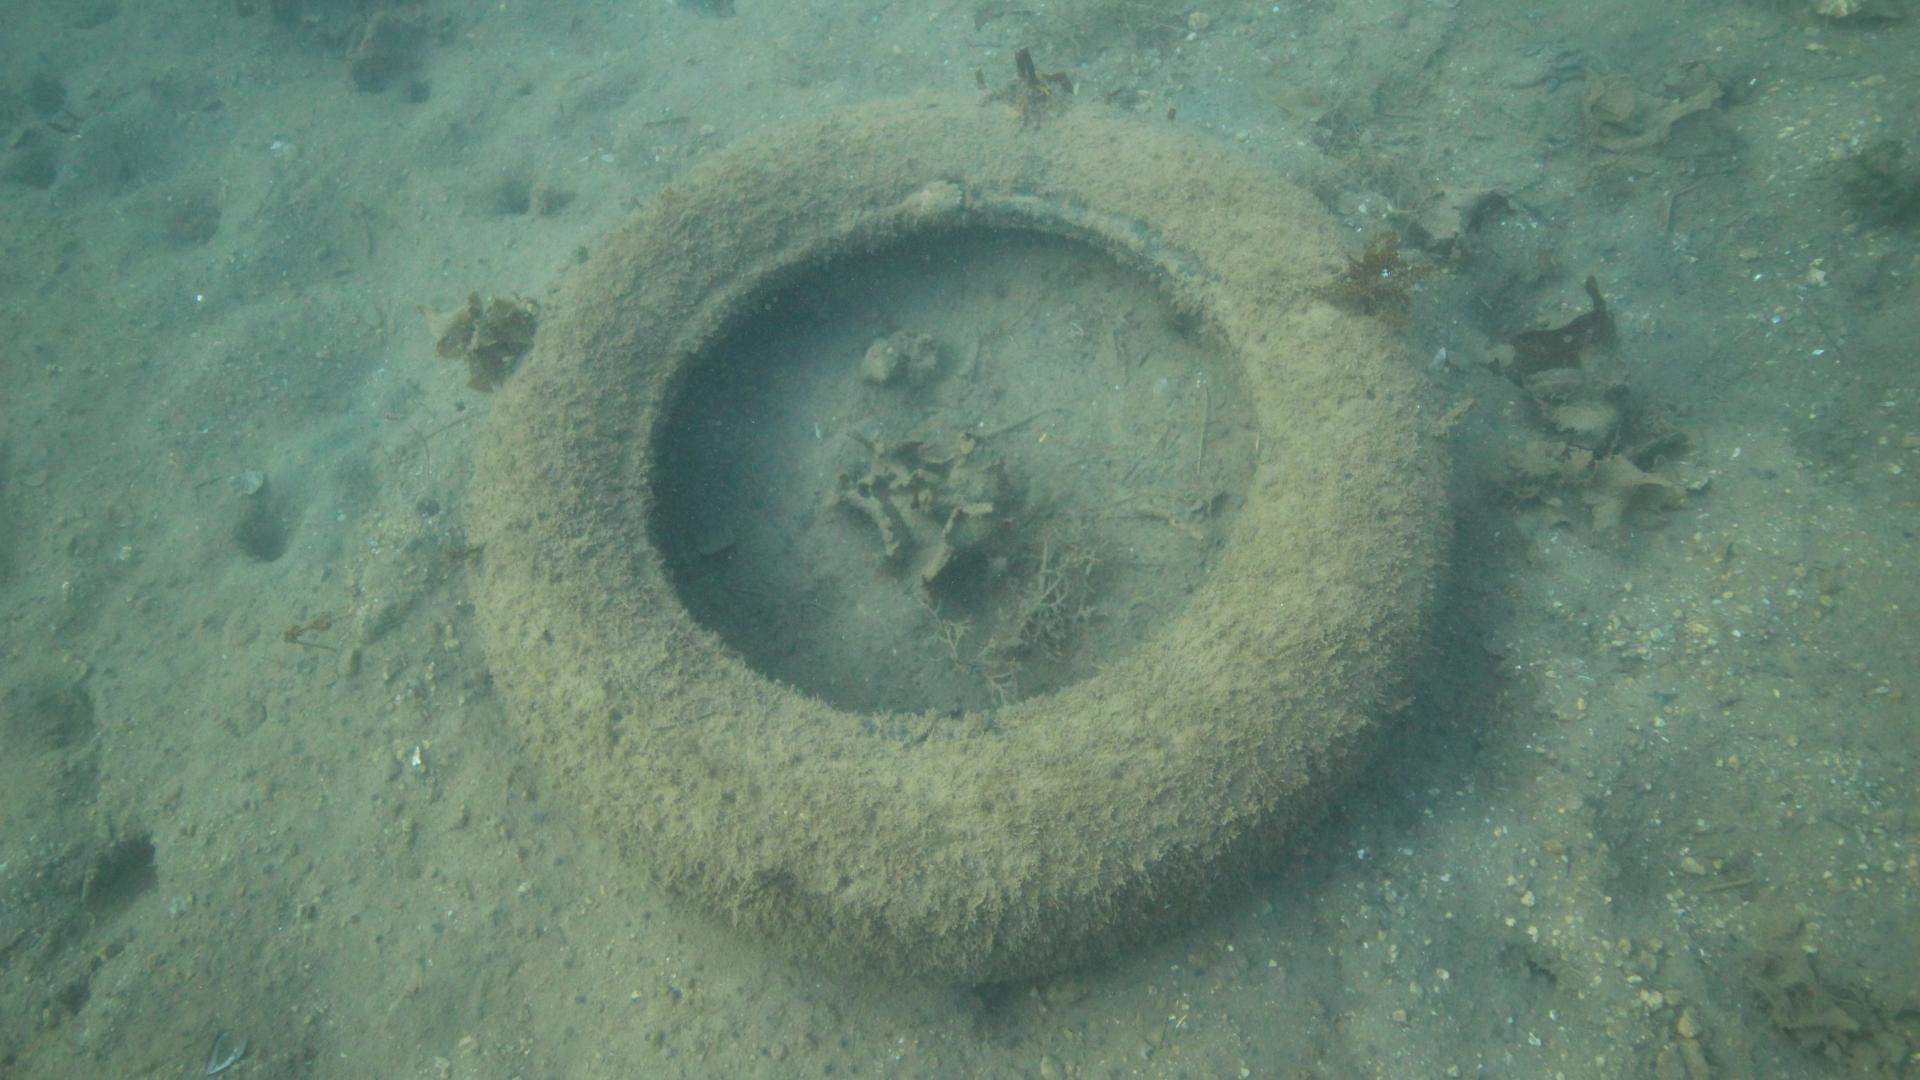tire: (459, 87, 1455, 984)
